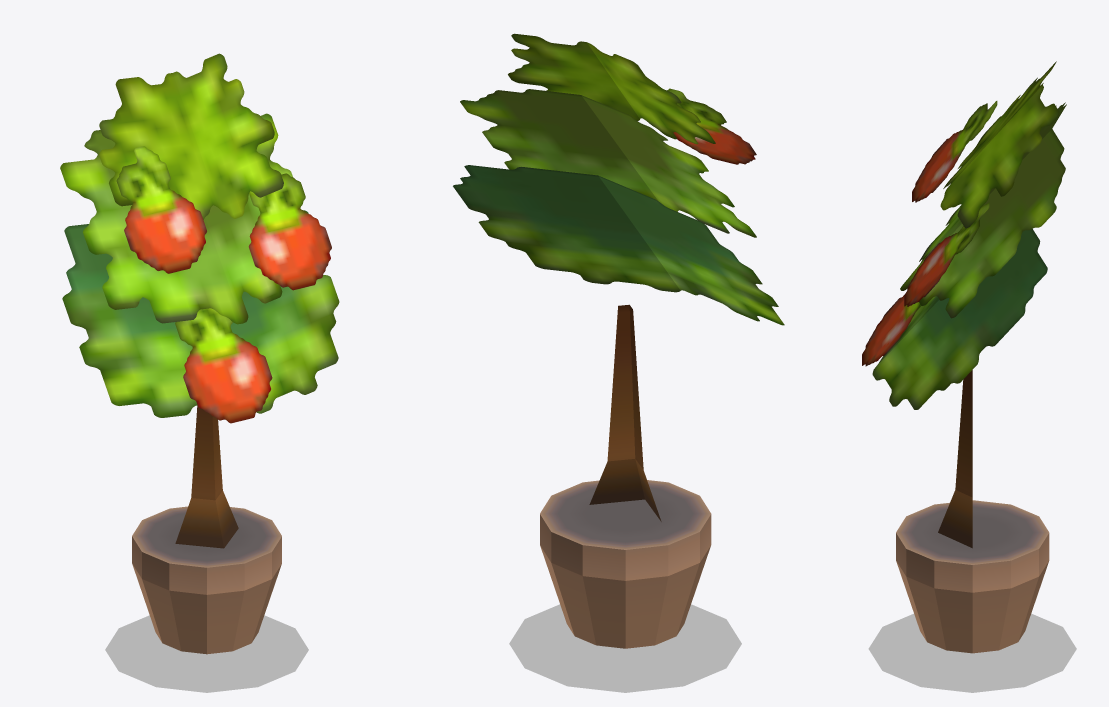
The model's file is kinominoki.obj.
The picture shows the model from 3 angles, left to right: view 1: azimuth 30°, elevation 25°; view 2: azimuth 150°, elevation 25°; view 3: azimuth 270°, elevation 25°; orthographic projection. The views are drawn at different scales.
Parts seen in each view (by area): view 1: kinominoki1_kinominoki1_kinominoki.png, kinominoki1_kinominoki1_shadow1.png.081; view 2: kinominoki1_kinominoki1_kinominoki.png, kinominoki1_kinominoki1_shadow1.png.081; view 3: kinominoki1_kinominoki1_kinominoki.png, kinominoki1_kinominoki1_shadow1.png.081.
Part boxes in pixels (x1,y1,x2,y2): kinominoki1_kinominoki1_kinominoki.png: [60, 53, 339, 654]; kinominoki1_kinominoki1_shadow1.png.081: [105, 615, 308, 692]; kinominoki1_kinominoki1_kinominoki.png: [453, 33, 784, 648]; kinominoki1_kinominoki1_shadow1.png.081: [509, 604, 741, 692]; kinominoki1_kinominoki1_kinominoki.png: [862, 61, 1066, 653]; kinominoki1_kinominoki1_shadow1.png.081: [868, 613, 1076, 692].
Size of the model in its own units: 1.41 by 2.78 by 1.07.
